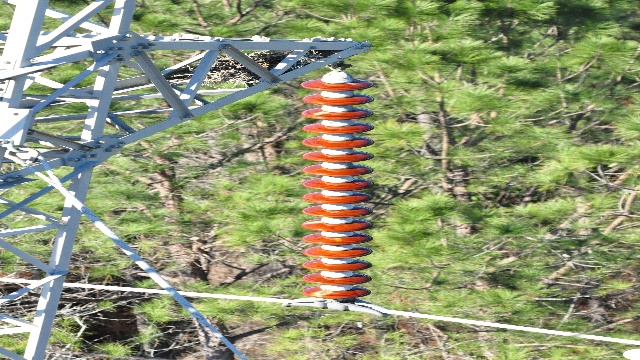insulator_unspecified: (294, 79, 378, 299)
pollution_flashover_local: (311, 289, 332, 297), (303, 220, 323, 226), (310, 111, 327, 116), (332, 236, 340, 243)
